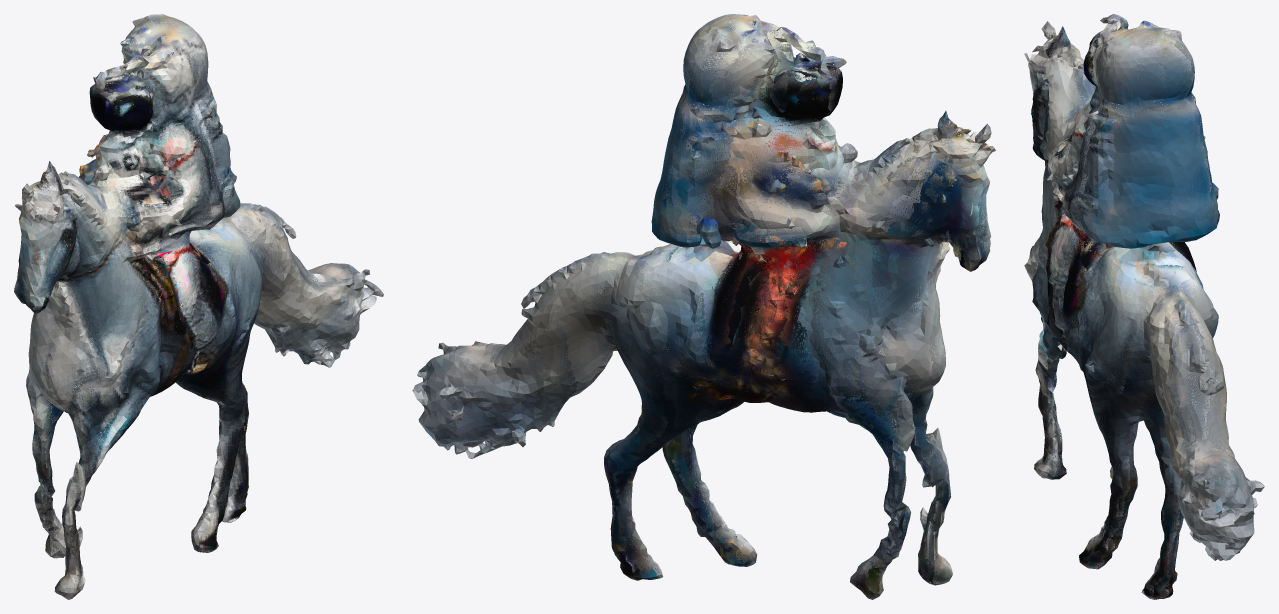
Rendered from astronaut_000.glb.
The picture shows the model from 3 angles, left to right: view 1: azimuth 30°, elevation 25°; view 2: azimuth 150°, elevation 25°; view 3: azimuth 270°, elevation 25°; orthographic projection. The views are drawn at different scales.
Bounding box in the file's own units: 1.21 × 1.37 × 0.5605.
Materials: 1 (1 with a texture image).
